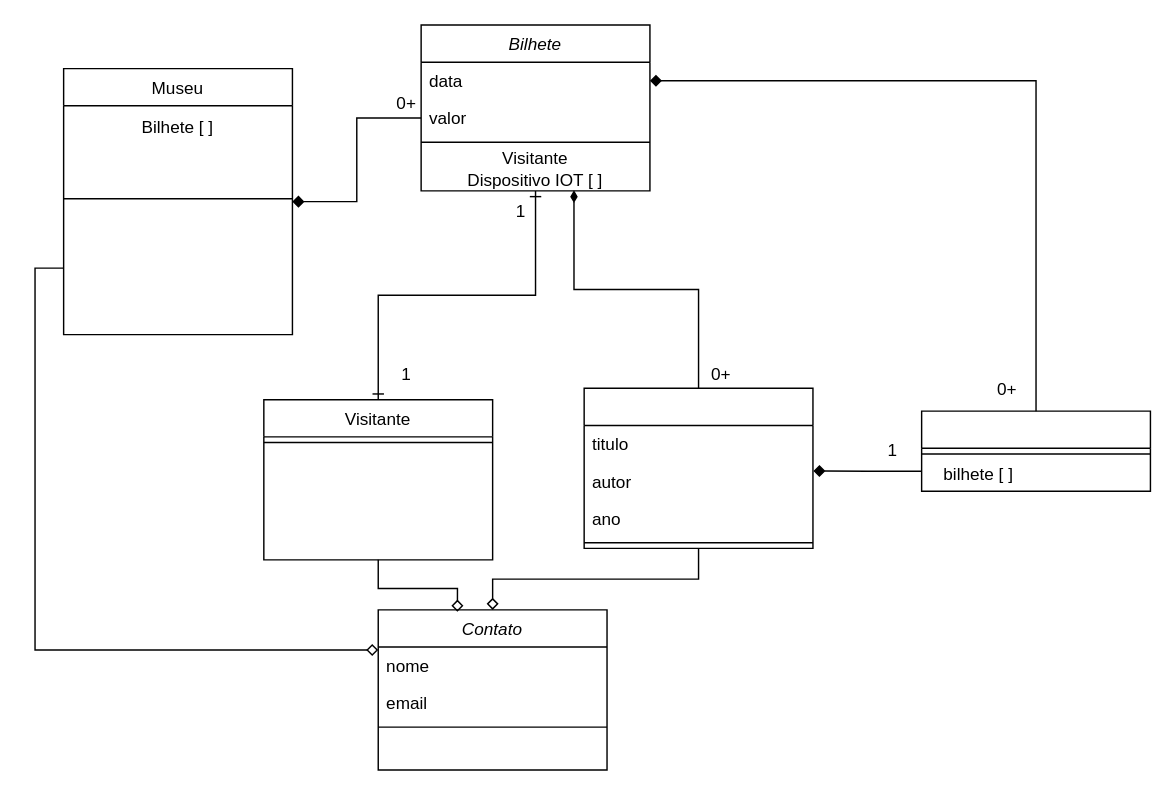
The diagram is 1175 pixels wide and 795 high, and some of its shapes have lost their labels. The box of each missing label's shape, as (x1, y1, x2, y2) in pixels:
Dispositivo IOT: (920, 410, 1150, 491)
Obra: (583, 387, 813, 548)
